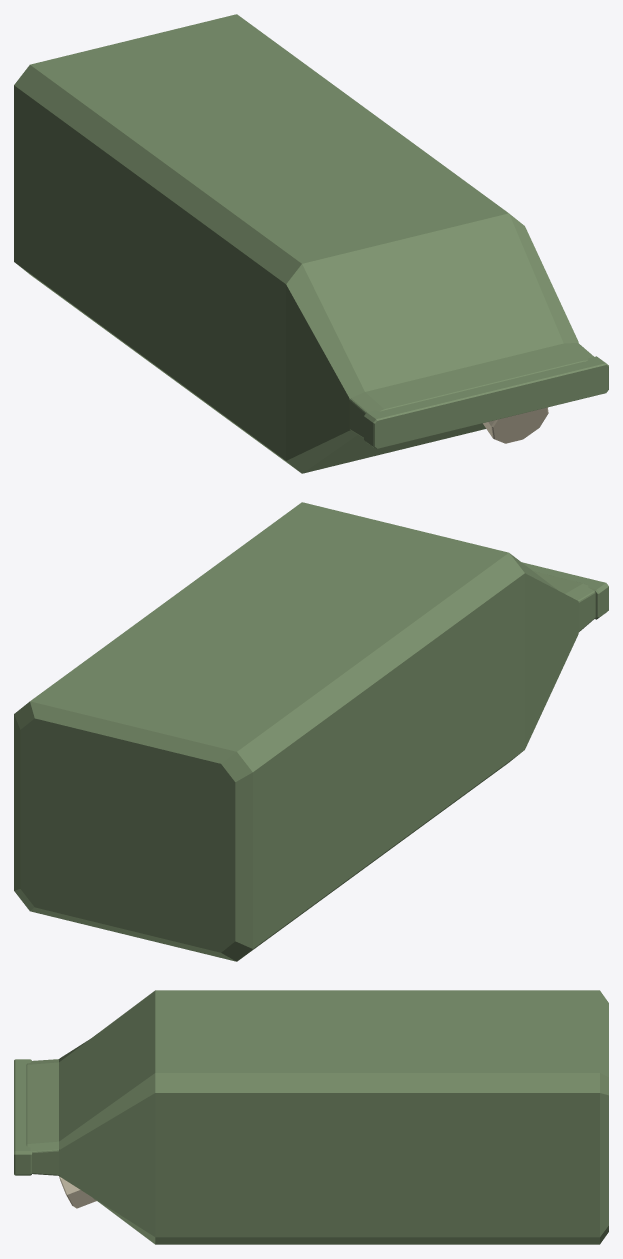
The model's file is oat_milk.glb.
The picture shows the model from 3 angles, top to bottom: view 1: azimuth 30°, elevation 25°; view 2: azimuth 150°, elevation 25°; view 3: azimuth 270°, elevation 25°; orthographic projection. The views are drawn at different scales.
Parts seen in each view (by area): view 1: oat_milk; view 2: oat_milk; view 3: oat_milk.
Boxes of the visible parts, x1,y1,x2,y2 form: oat_milk: (14,14,608,473); oat_milk: (14,502,608,961); oat_milk: (14,990,608,1244).
Size of the model in its own units: 0.075 by 0.0655 by 0.198.
